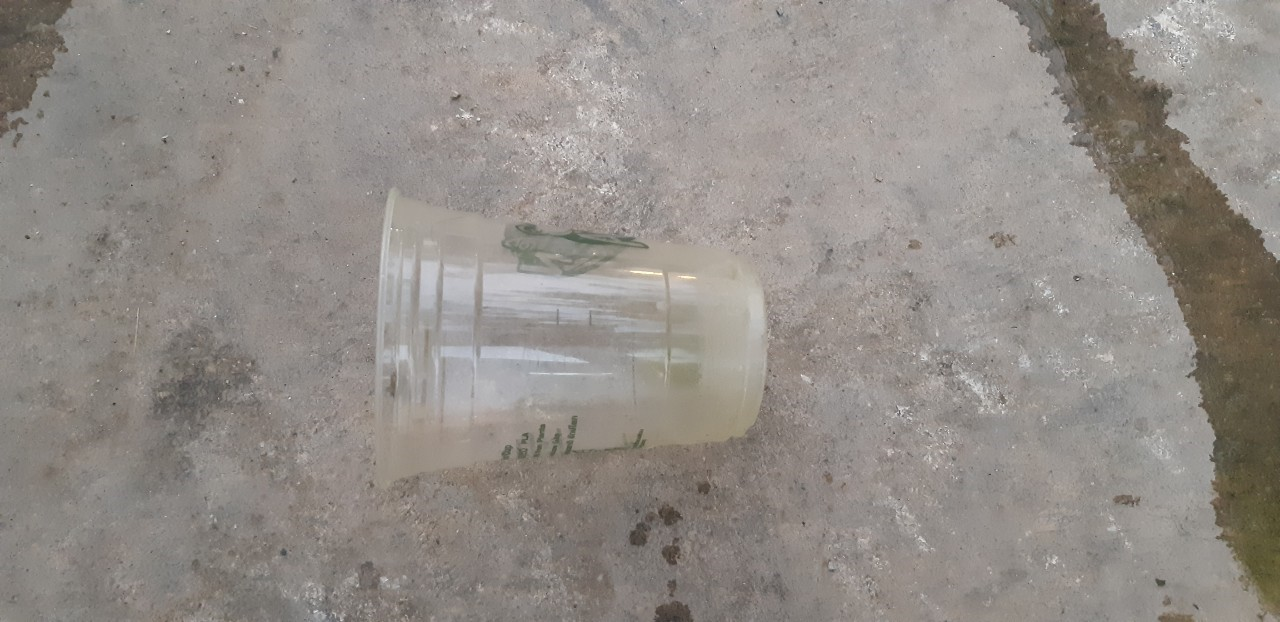PlasticCup: (372, 185, 773, 482)
